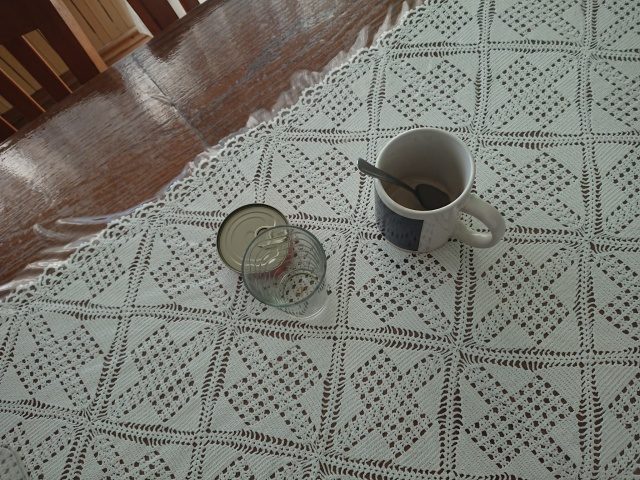Gavrilovic Pork Liver Pate 100g: (215, 202, 295, 282)
